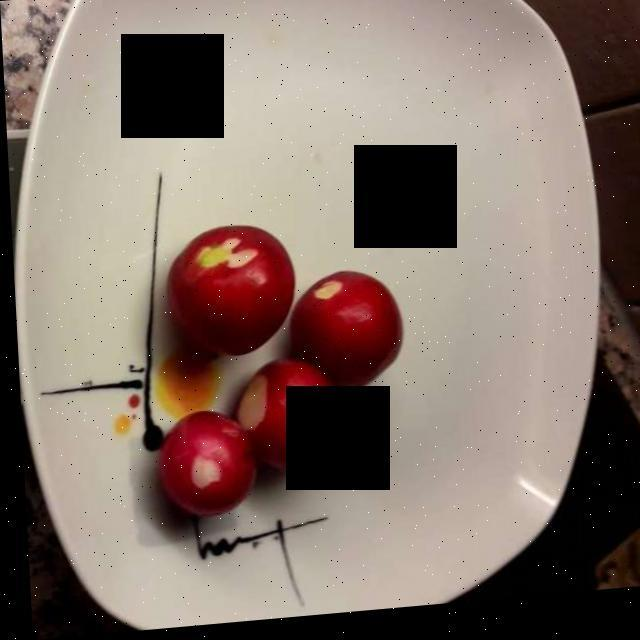radish: (154, 225, 401, 520)
